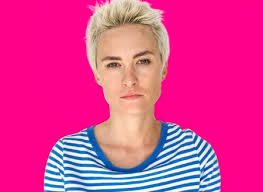white_female: (100, 34, 172, 123)
